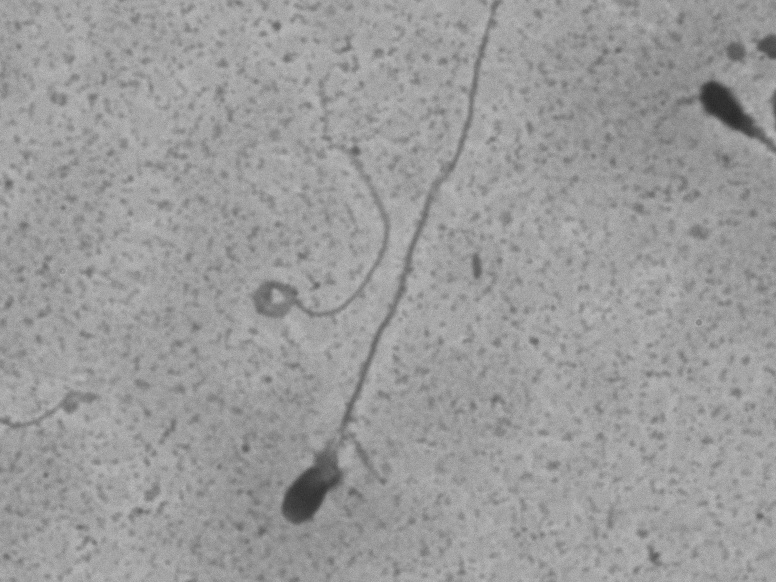Abnormal: (269, 7, 507, 541)
